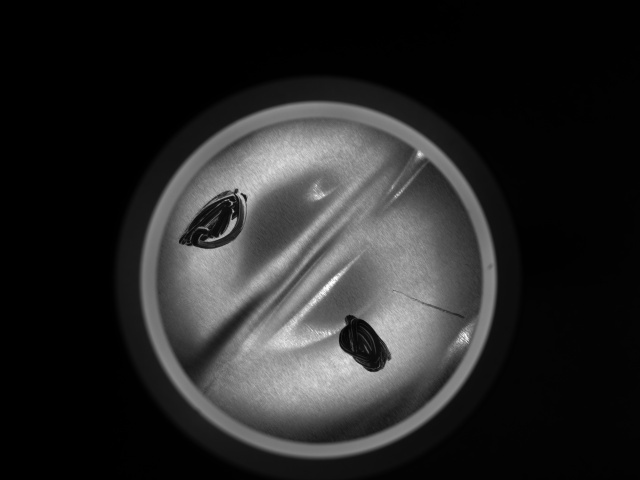ca_shang: (385, 287, 470, 320)
zang_wu: (179, 184, 249, 252), (335, 307, 392, 375)
zhe_zhou: (198, 147, 440, 409)
